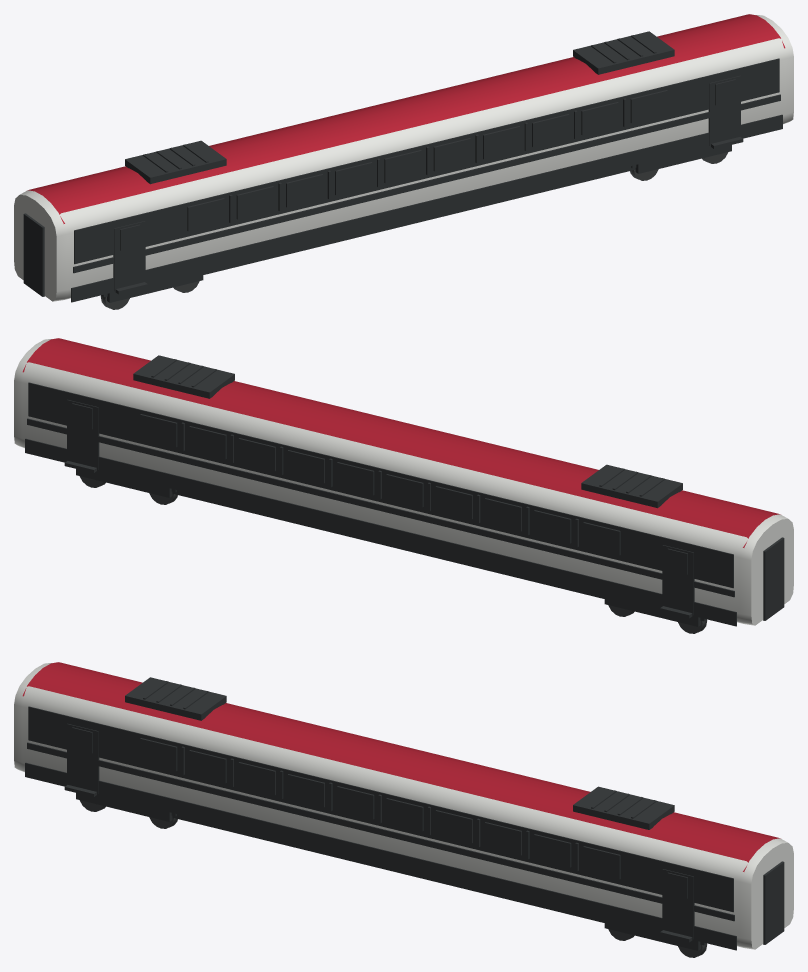
The model's file is railjet-classic-economy.glb.
3 views of the same model, one above another, from view 1: azimuth 30°, elevation 25°; view 2: azimuth 150°, elevation 25°; view 3: azimuth 330°, elevation 25° (orthographic).
Visible parts, largest first — view 1: railjet_economy_lofted_body, economy_red_roof, economy_window_band_-1, economy_lower_skirt_-1, economy_red_belt_-1, economy_hvac_1, economy_underframe_spine, economy_hvac_0, gangway_1, economy_door_-1_0, economy_door_-1_1, economy_window_-1_1 (+11 smaller); view 2: railjet_economy_lofted_body, economy_red_roof, economy_window_band_1, economy_lower_skirt_1, economy_red_belt_1, economy_hvac_1, economy_underframe_spine, economy_hvac_0, gangway_1, economy_door_1_0, economy_door_1_1, economy_bogie_b (+11 smaller); view 3: railjet_economy_lofted_body, economy_red_roof, economy_window_band_-1, economy_lower_skirt_-1, economy_red_belt_-1, economy_hvac_0, economy_underframe_spine, economy_hvac_1, gangway_0, economy_door_-1_1, economy_door_-1_0, economy_window_-1_3 (+11 smaller).
Part boxes in pixels (x1,y1,x2,y2): railjet_economy_lofted_body: (14, 15, 793, 301); economy_red_roof: (27, 14, 785, 223); economy_window_band_-1: (74, 58, 779, 264); economy_lower_skirt_-1: (71, 114, 782, 302); economy_red_belt_-1: (73, 94, 780, 273); economy_hvac_1: (573, 31, 674, 74); economy_underframe_spine: (203, 166, 635, 274); economy_hvac_0: (125, 140, 226, 184); gangway_1: (23, 213, 44, 296); economy_door_-1_0: (113, 221, 145, 291); economy_door_-1_1: (708, 75, 740, 145); economy_window_-1_1: (236, 186, 273, 219); railjet_economy_lofted_body: (14, 339, 793, 625); economy_red_roof: (22, 338, 780, 547); economy_window_band_1: (28, 382, 733, 588); economy_lower_skirt_1: (25, 438, 736, 626); economy_red_belt_1: (27, 418, 734, 597); economy_hvac_1: (133, 355, 234, 398); economy_underframe_spine: (172, 490, 604, 598); economy_hvac_0: (581, 464, 682, 508); gangway_1: (763, 537, 784, 620); economy_door_1_0: (662, 545, 694, 615); economy_door_1_1: (67, 399, 99, 469); economy_bogie_b: (76, 469, 177, 504); railjet_economy_lofted_body: (14, 663, 793, 949); economy_red_roof: (22, 662, 780, 871); economy_window_band_-1: (28, 706, 733, 912); economy_lower_skirt_-1: (25, 762, 736, 950); economy_red_belt_-1: (27, 742, 734, 921); economy_hvac_0: (125, 677, 226, 720); economy_underframe_spine: (172, 814, 604, 922); economy_hvac_1: (573, 786, 674, 829); gangway_0: (763, 861, 784, 944); economy_door_-1_1: (662, 869, 694, 939); economy_door_-1_0: (67, 723, 99, 793); economy_window_-1_3: (287, 774, 324, 807).
Size of the model in its own units: 26.66 by 4.32 by 3.35.
